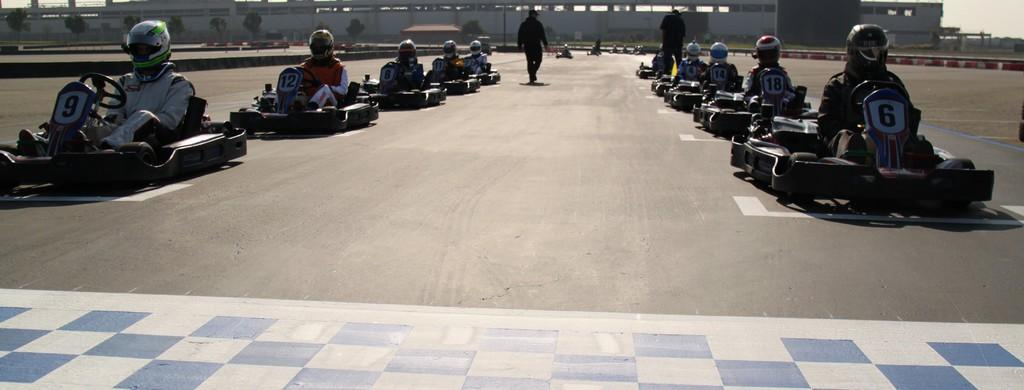helmet: (121, 19, 171, 71), (846, 23, 889, 75), (308, 29, 335, 61), (756, 34, 781, 67), (397, 39, 417, 65), (710, 42, 728, 65), (686, 42, 701, 62), (442, 40, 457, 59), (470, 40, 482, 56)
